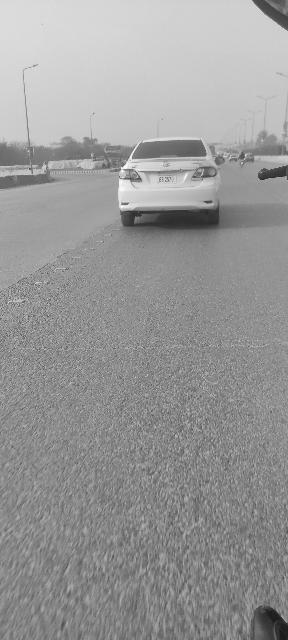Number: (158, 177, 173, 183)
